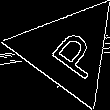P_NW: (34, 21, 101, 80)
